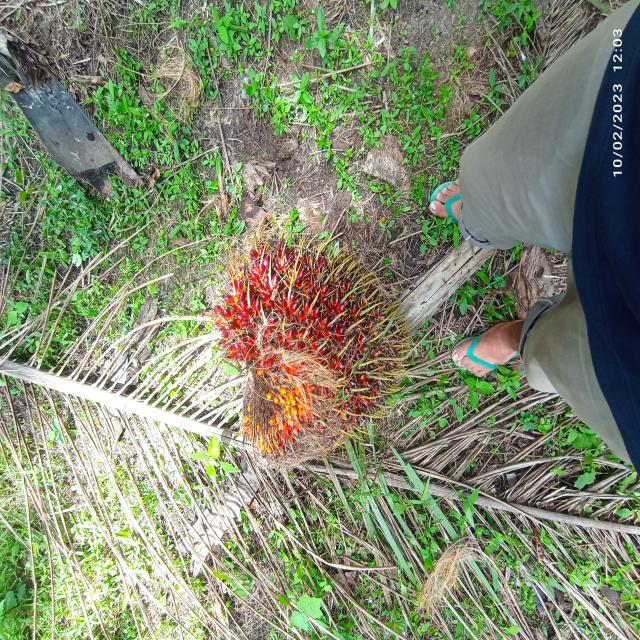fraksi 3: (159, 203, 445, 497)
